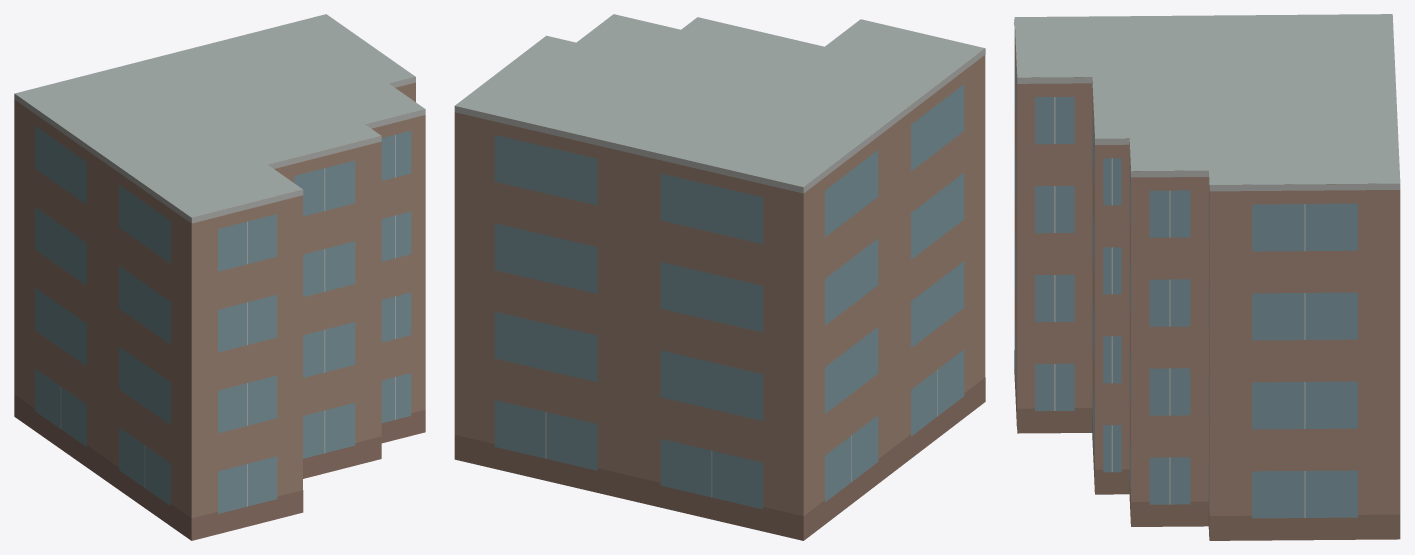
Rendered from survey-upis-32614553.glb.
The picture shows the model from 3 angles, left to right: view 1: azimuth 30°, elevation 25°; view 2: azimuth 150°, elevation 25°; view 3: azimuth 270°, elevation 25°; orthographic projection. The views are drawn at different scales.
Parts seen in each view (by area): view 1: survey-upis-32614553.tmp; view 2: survey-upis-32614553.tmp; view 3: survey-upis-32614553.tmp.
Part boxes in pixels (bbox=[...]): survey-upis-32614553.tmp: bbox=[14, 14, 425, 540]; survey-upis-32614553.tmp: bbox=[454, 14, 985, 540]; survey-upis-32614553.tmp: bbox=[1014, 14, 1400, 540].
Size of the model in its own units: 14.11 by 13.68 by 13.45.
